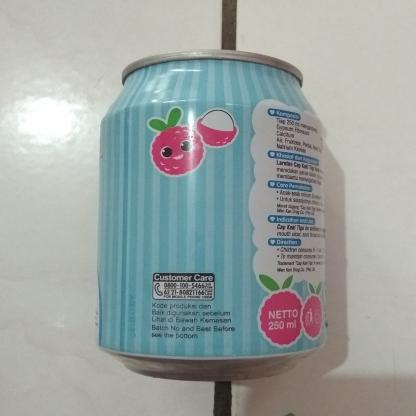mouse: (89, 44, 333, 384)
